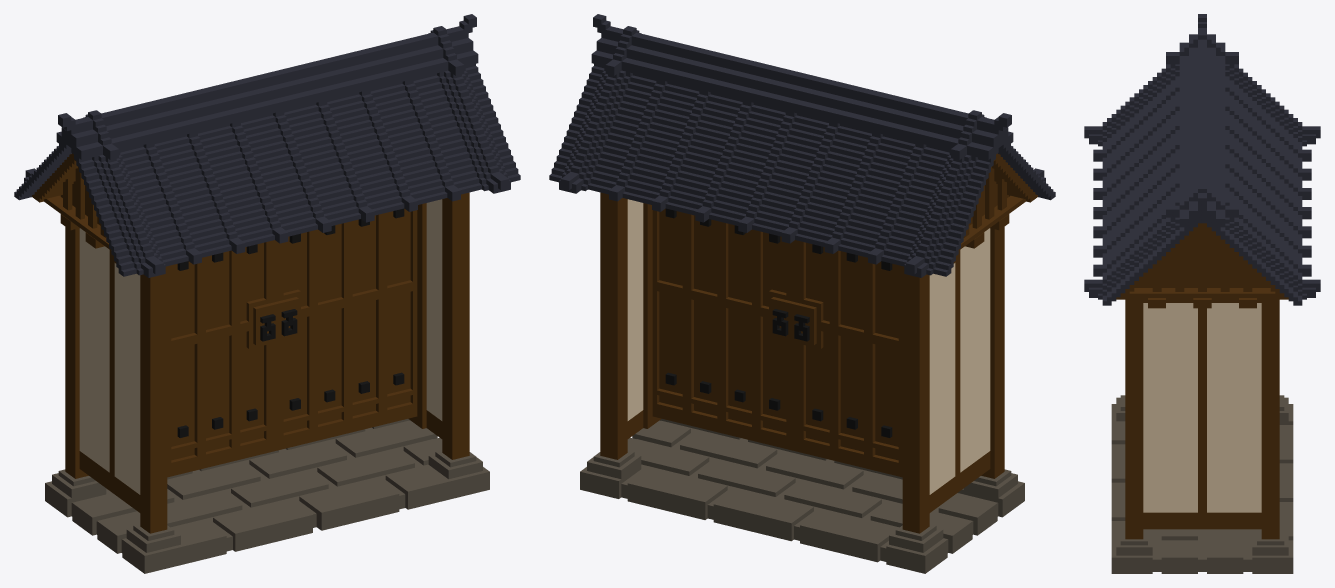
Rendered from Korean_door_02.FBX.
3 views of the same model, side by side, from view 1: azimuth 30°, elevation 25°; view 2: azimuth 150°, elevation 25°; view 3: azimuth 270°, elevation 25° (orthographic). The views are drawn at different scales.
Visible parts, largest first — view 1: Voxel_Korean_traditional village-32; view 2: Voxel_Korean_traditional village-32; view 3: Voxel_Korean_traditional village-32.
Part boxes in pixels (bbox=[...]): Voxel_Korean_traditional village-32: bbox=[14, 14, 520, 573]; Voxel_Korean_traditional village-32: bbox=[549, 14, 1055, 573]; Voxel_Korean_traditional village-32: bbox=[1084, 14, 1320, 573].
Size of the model in its own units: 95.98 by 94.98 by 51.99.
1 material, 1 textured.
